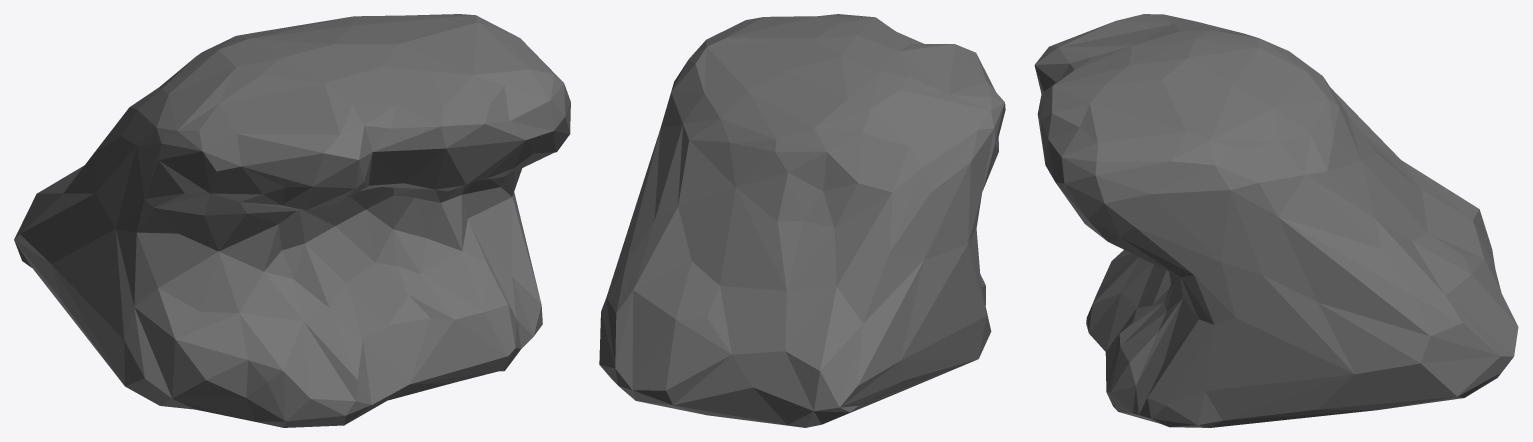
Rendered from SM_Gen_Env_Dirt_Cliff_05.glb.
3 views of the same model, side by side, from view 1: azimuth 30°, elevation 25°; view 2: azimuth 150°, elevation 25°; view 3: azimuth 270°, elevation 25° (orthographic). The views are drawn at different scales.
Parts seen in each view (by area): view 1: SM_Gen_Env_Dirt_Cliff_05; view 2: SM_Gen_Env_Dirt_Cliff_05; view 3: SM_Gen_Env_Dirt_Cliff_05.
Boxes of the visible parts, bbox=[...] form: SM_Gen_Env_Dirt_Cliff_05: bbox=[14, 14, 570, 427]; SM_Gen_Env_Dirt_Cliff_05: bbox=[599, 14, 1005, 427]; SM_Gen_Env_Dirt_Cliff_05: bbox=[1034, 14, 1518, 427].
Bounding box in the file's own units: 11.92 × 9.8 × 14.21.
1 material, 1 textured.
